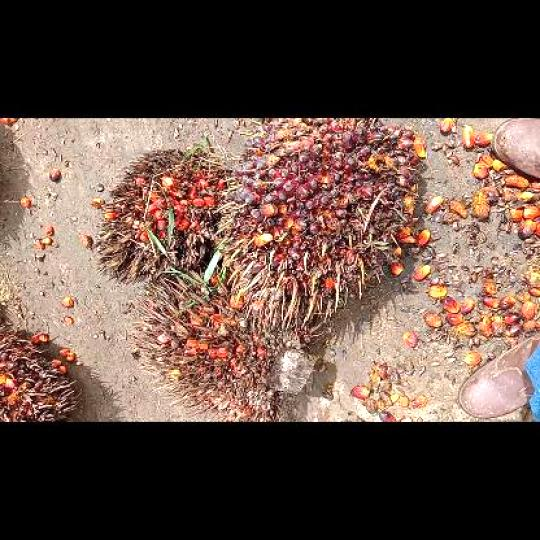masak: (212, 119, 424, 336)
terlalu masak: (125, 272, 319, 421), (92, 146, 233, 286)
